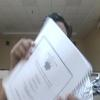notebook: (1, 15, 93, 99)
